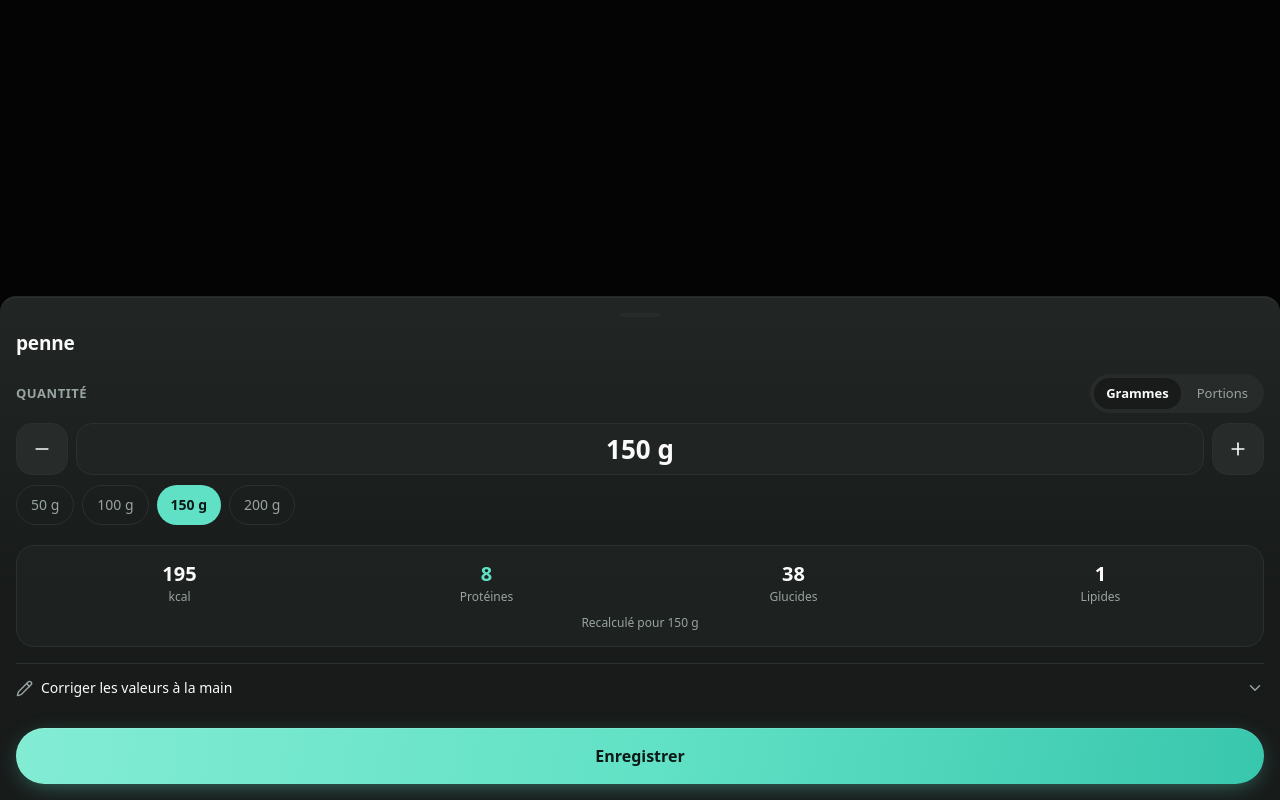
Test case: QuantitySheet › avance de dix en dix, et repart toujours de la portion d’origine
Click the button named "Augmenter la quantité" at (1238,449), box [1212,423,1264,475]
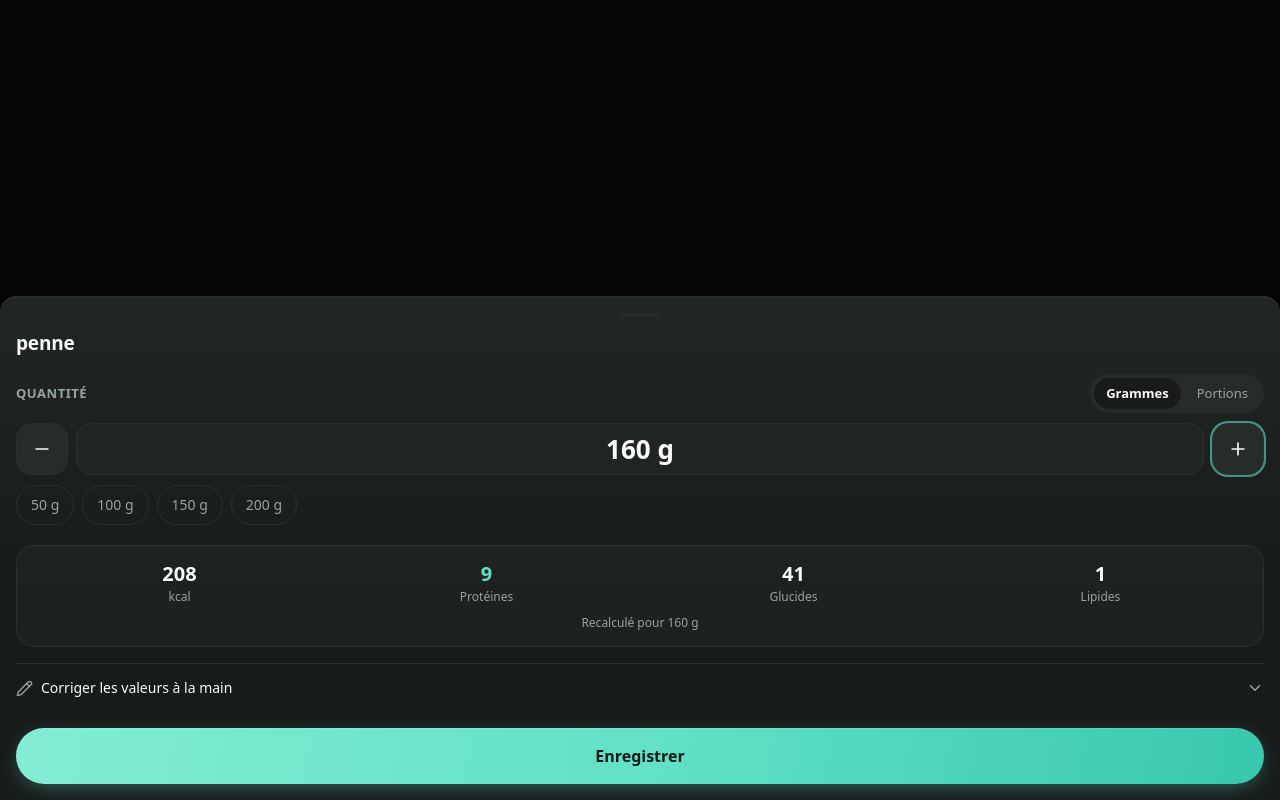
Click the button named "Augmenter la quantité" at (1238,449), box [1212,423,1264,475]
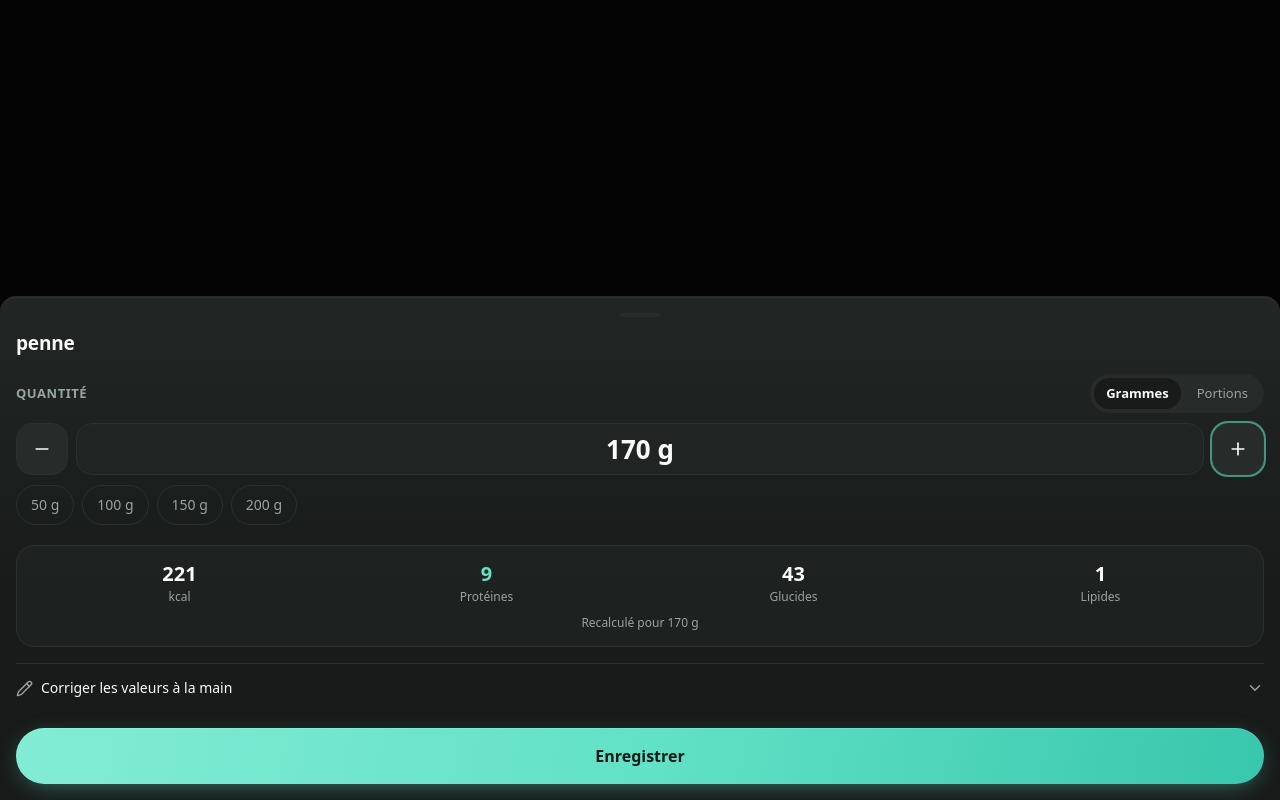
Click the button named "Augmenter la quantité" at (1238,449), box [1212,423,1264,475]
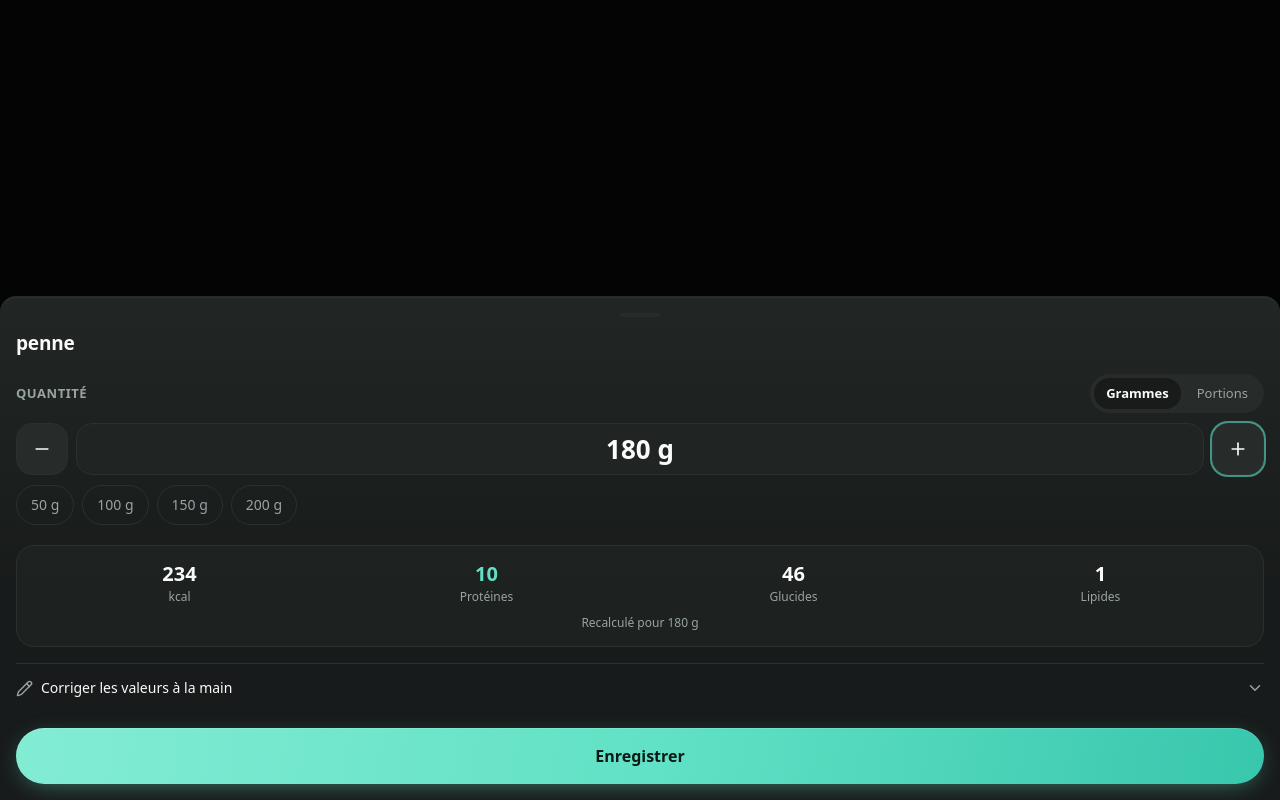
Click the button named "Augmenter la quantité" at (1238,449), box [1212,423,1264,475]
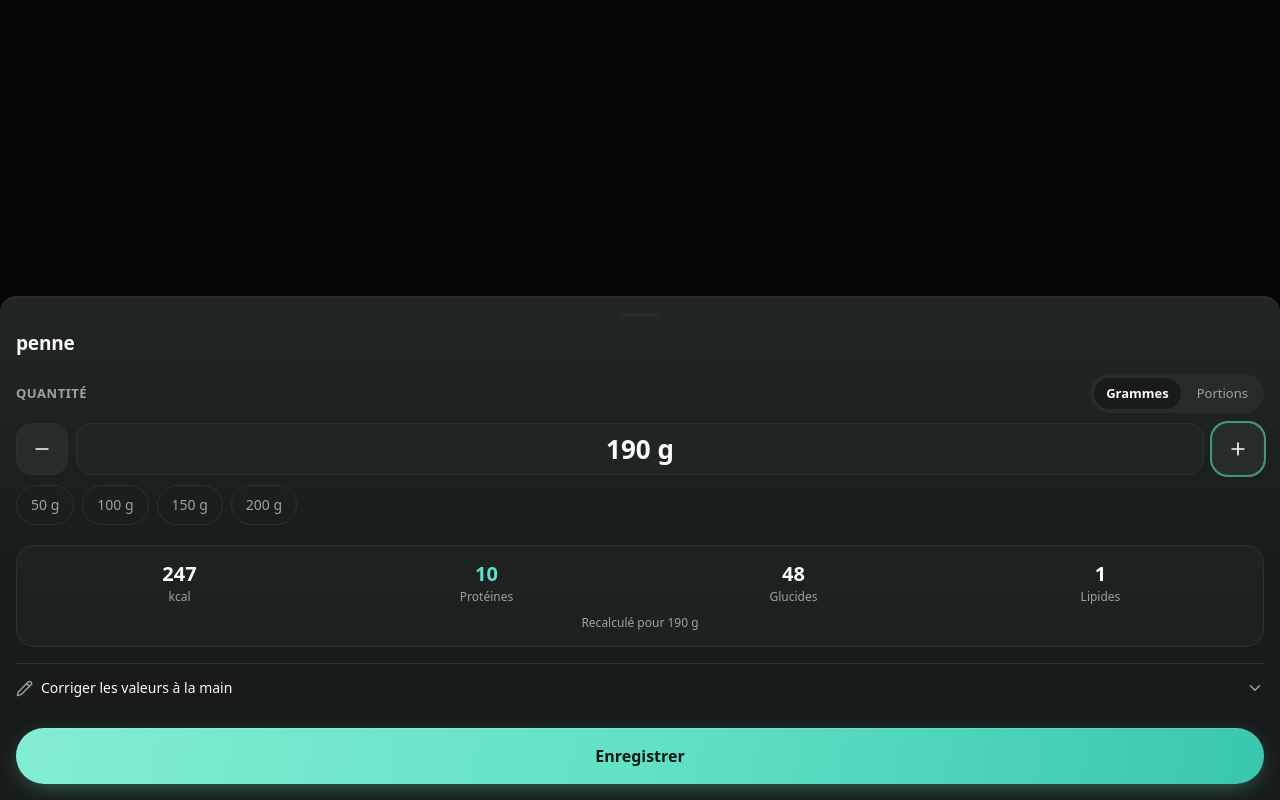
Click the button named "Augmenter la quantité" at (1238,449), box [1212,423,1264,475]
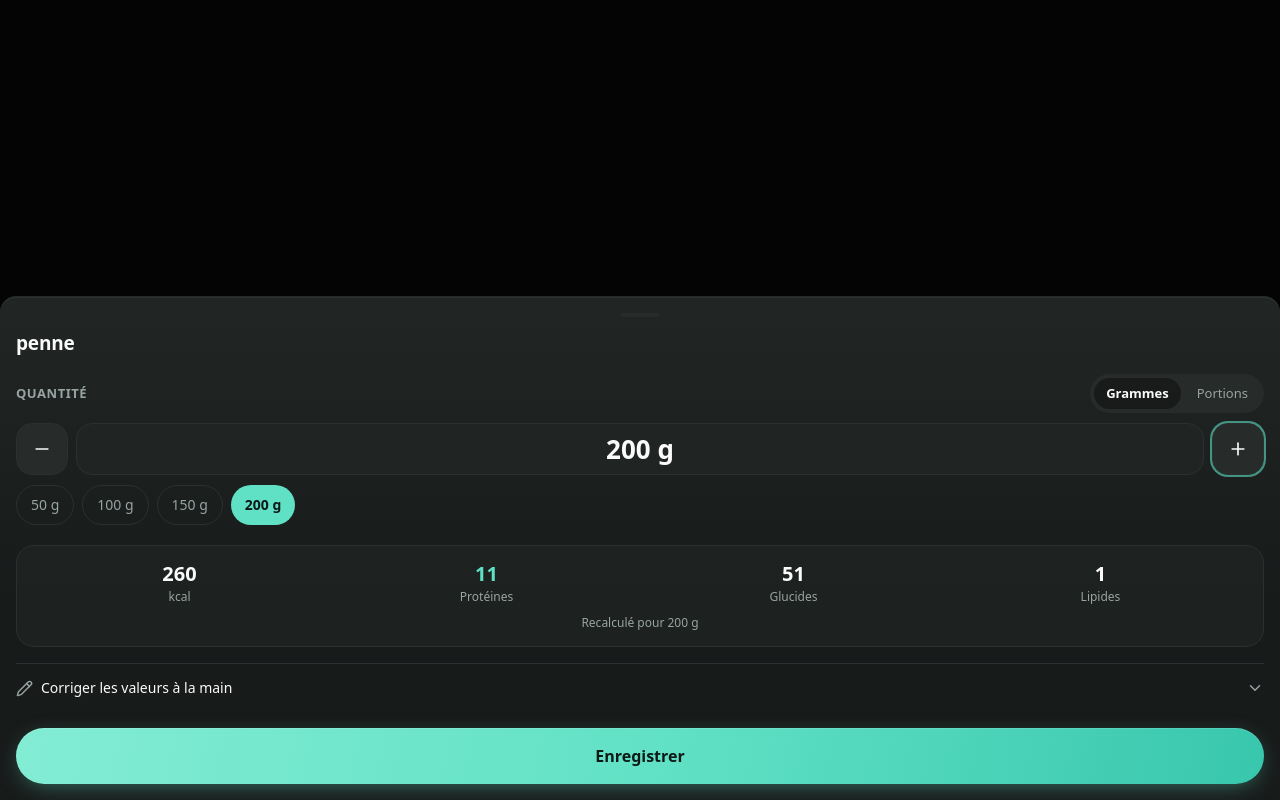
Result: the field named "Quantité" holds "200 g" at [76,423,1204,475]
